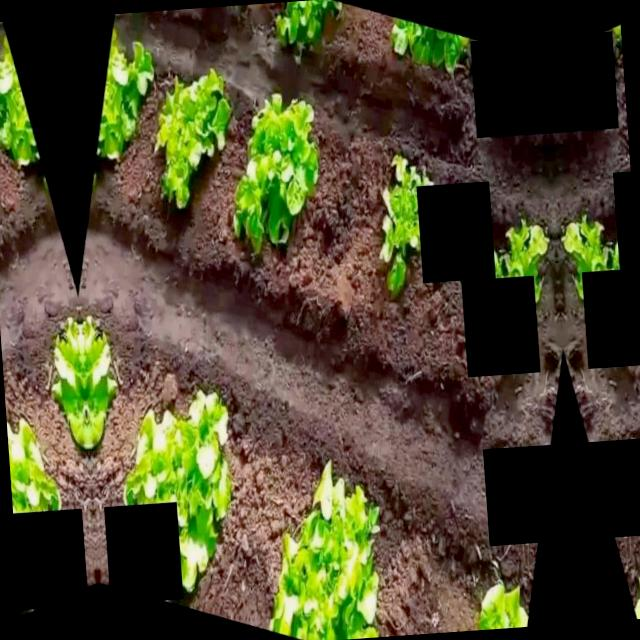healthy: (112, 389, 243, 596), (253, 453, 391, 640), (217, 81, 329, 253), (143, 58, 238, 206), (5, 400, 71, 602), (378, 150, 441, 304), (88, 43, 162, 164), (78, 308, 124, 462), (44, 310, 90, 464), (557, 212, 619, 296), (386, 12, 472, 72), (493, 217, 555, 300), (0, 50, 41, 170), (269, 0, 344, 56), (473, 564, 533, 630), (626, 555, 640, 619), (610, 1, 622, 56)
